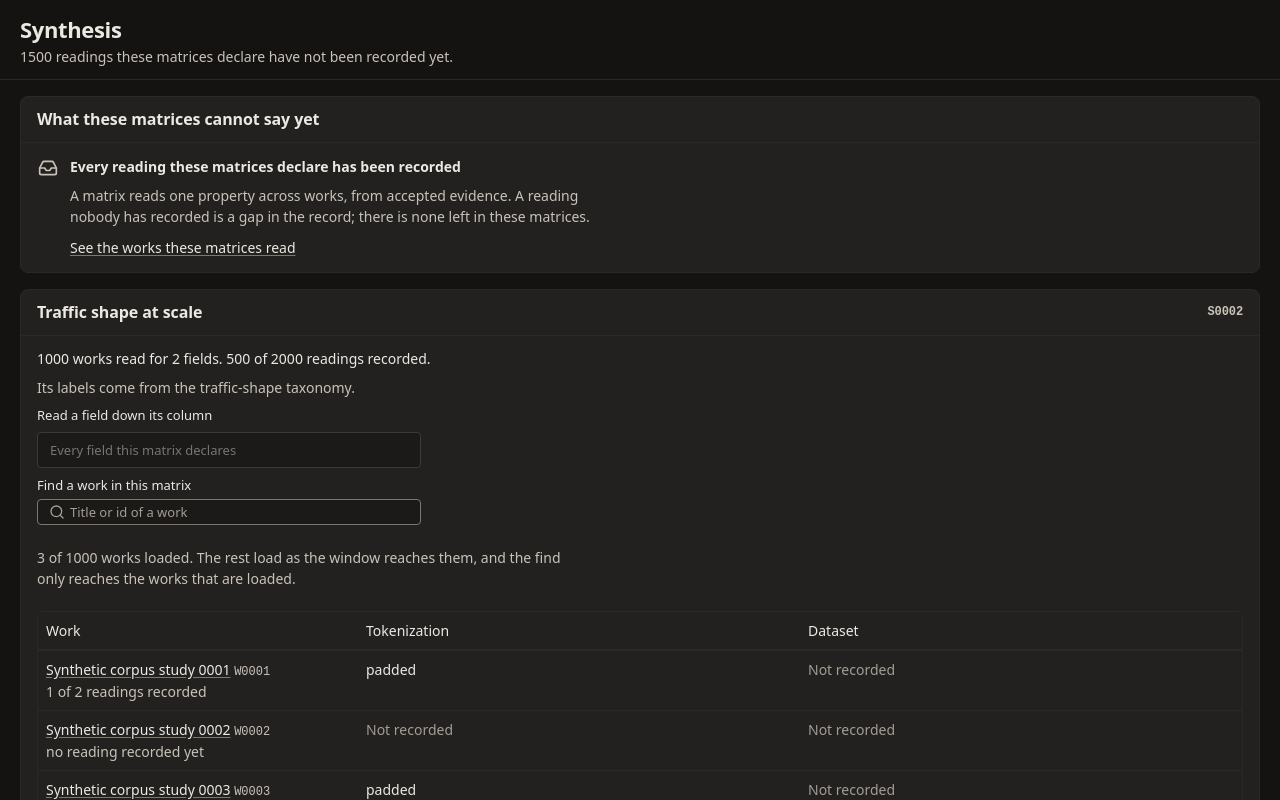
Test: the synthesis page › opens a cell of a windowed row onto the same evidence a whole matrix opens
The width and height of the screenshot is (1280, 800).
Click the button "Not recorded" in the row of "W0001". click: [852, 669]
box: [808,658,1234,680]
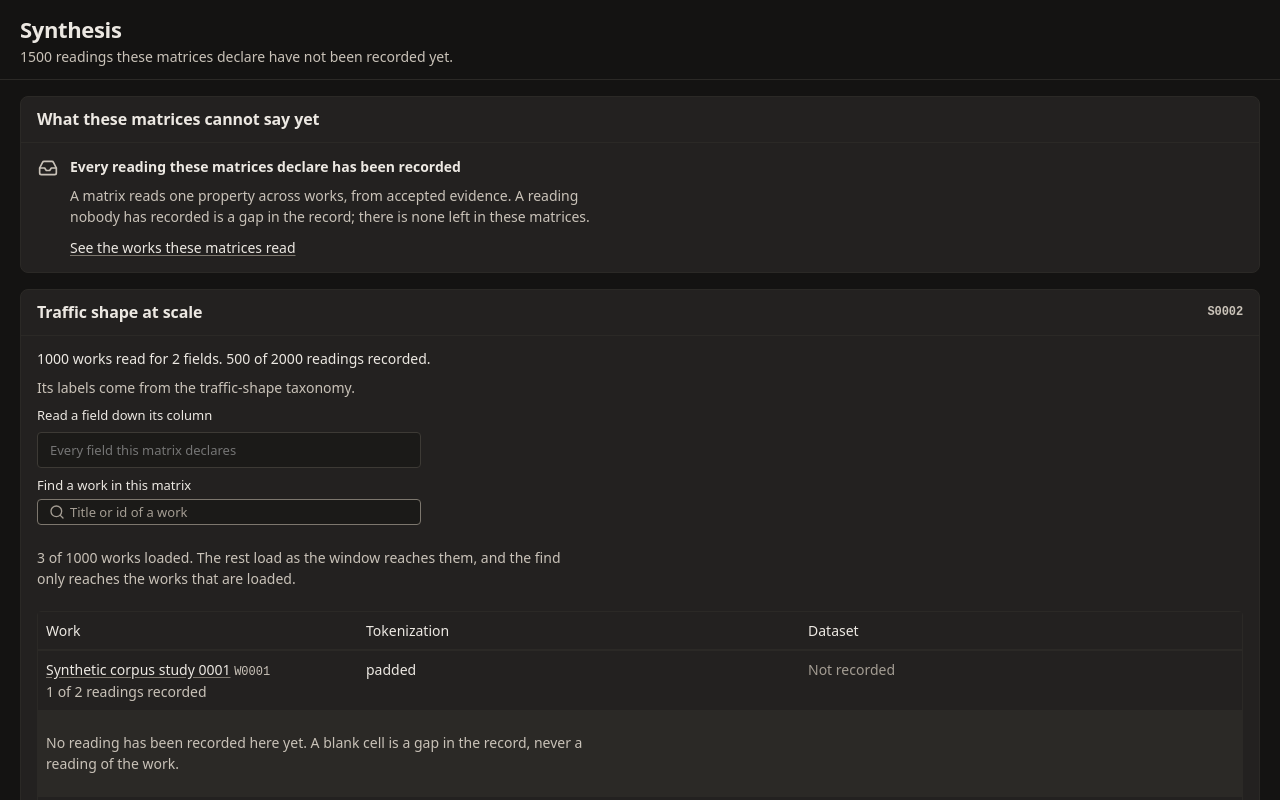
Now the text "No reading has been recorded here yet. A blank cell is a gap in the record, never a reading of the work." is shown, box [46,732,582,772]
